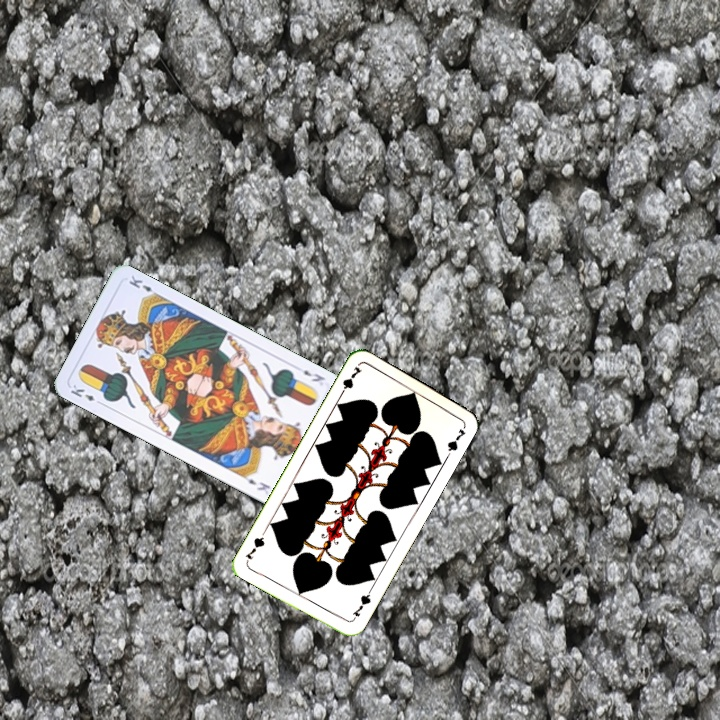EK: (67, 380, 105, 408), (299, 366, 328, 384)
G7: (336, 362, 364, 399), (348, 586, 374, 623)
